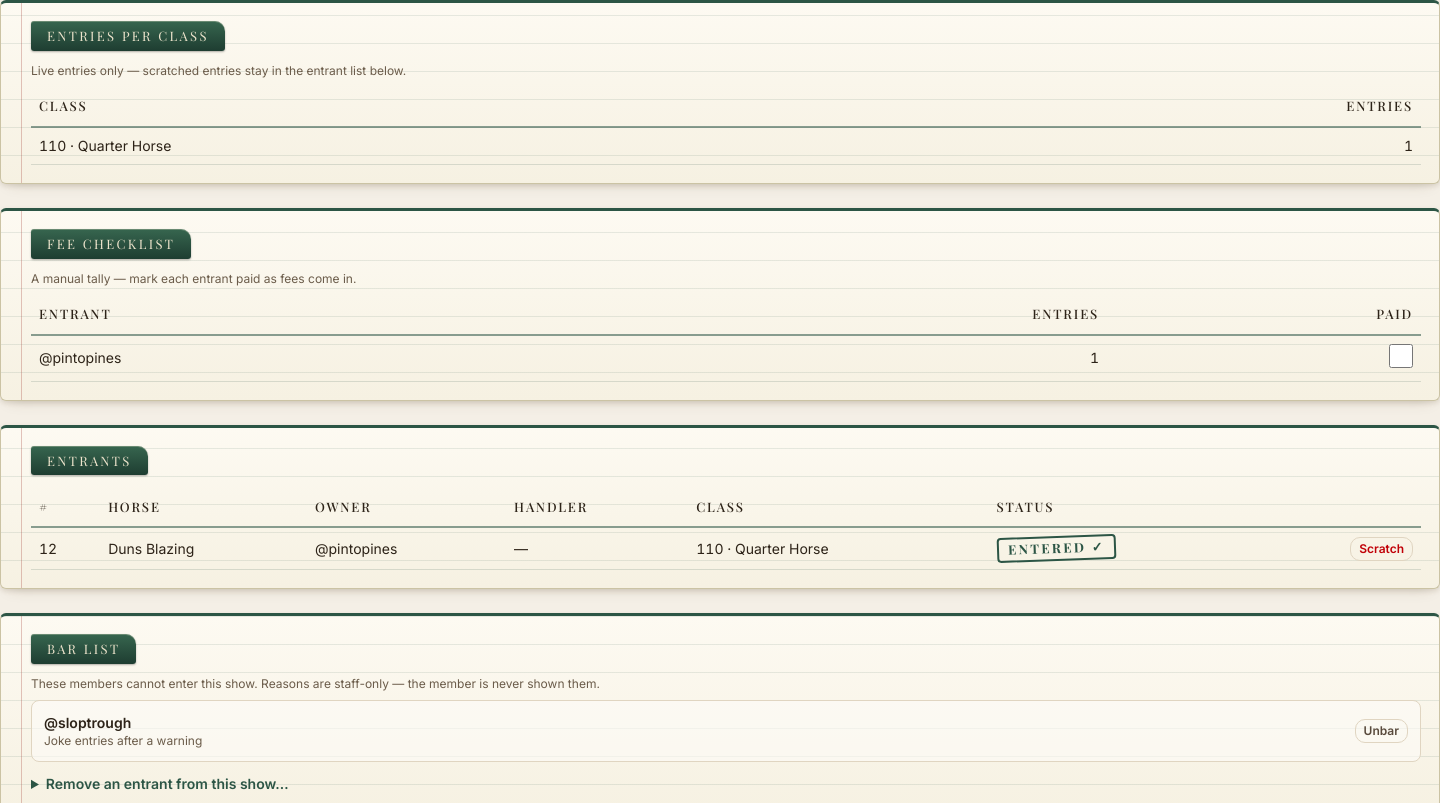
Scenario: ShowEntriesPanel — the bar list › surfaces an unbar refusal verbatim
This screenshot has width=1440, height=803.
Click the button with aria-label "Unbar @sloptrough": (1381, 731) [1355,719,1408,743]
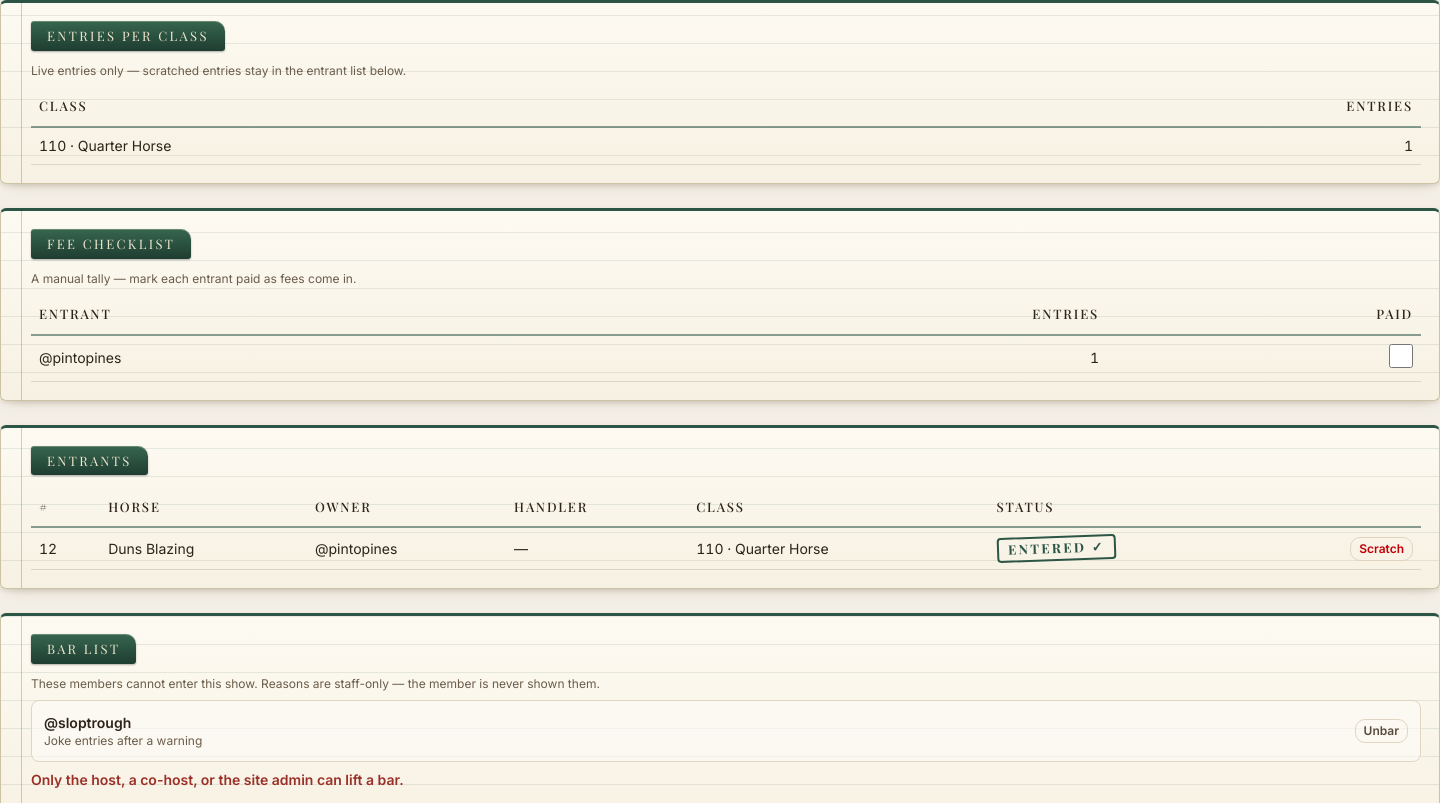
expect the text "Only the host, a co-host, or the site admin can lift a bar." is shown: met, box [31,771,404,788]
